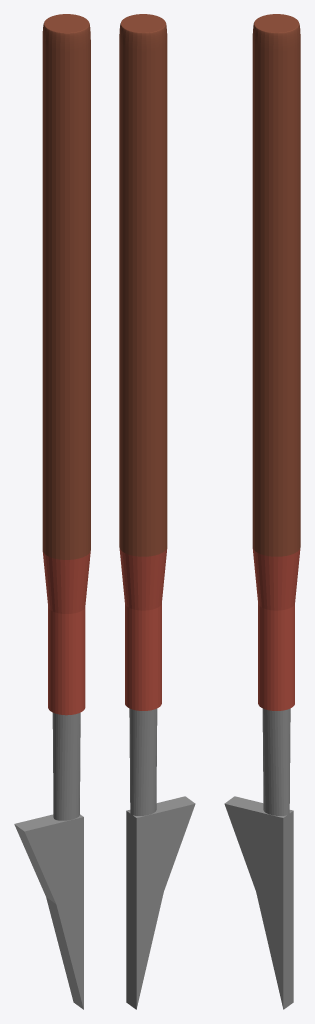
File: harpoon.fbx
3 renders of one model, left to right at view 1: azimuth 30°, elevation 25°; view 2: azimuth 210°, elevation 25°; view 3: azimuth 330°, elevation 25°, orthographic.
Parts seen in each view (by area): view 1: Cylinder; view 2: Cylinder; view 3: Cylinder.
Part boxes in pixels (left/top/right/bottom): Cylinder: left=14, top=14, right=90, bottom=1009; Cylinder: left=119, top=14, right=195, bottom=1009; Cylinder: left=224, top=14, right=300, bottom=1009.
Bounding box in the file's own units: 10.19 × 140 × 6.25.
